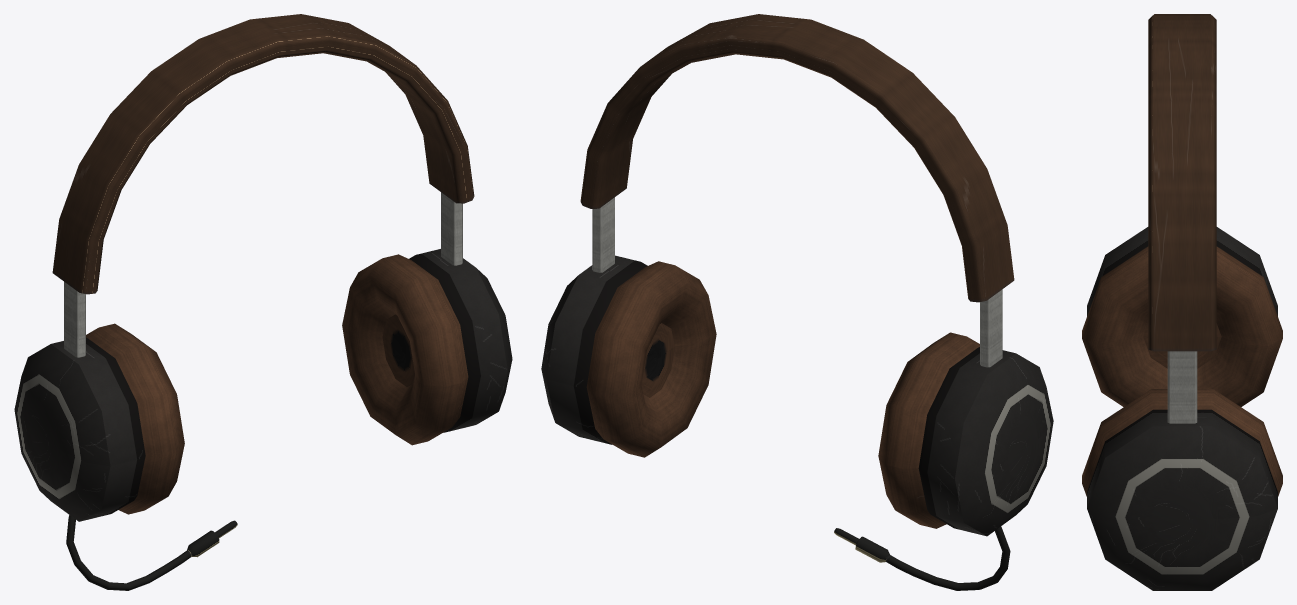
Rendered from hifi-headphones.obj.
3 renders of one model, left to right at view 1: azimuth 30°, elevation 25°; view 2: azimuth 150°, elevation 25°; view 3: azimuth 270°, elevation 25°, orthographic. The views are drawn at different scales.
Bounding box in the file's own units: 0.217 × 0.2442 × 0.082.
Materials: 1 (1 with a texture image).
